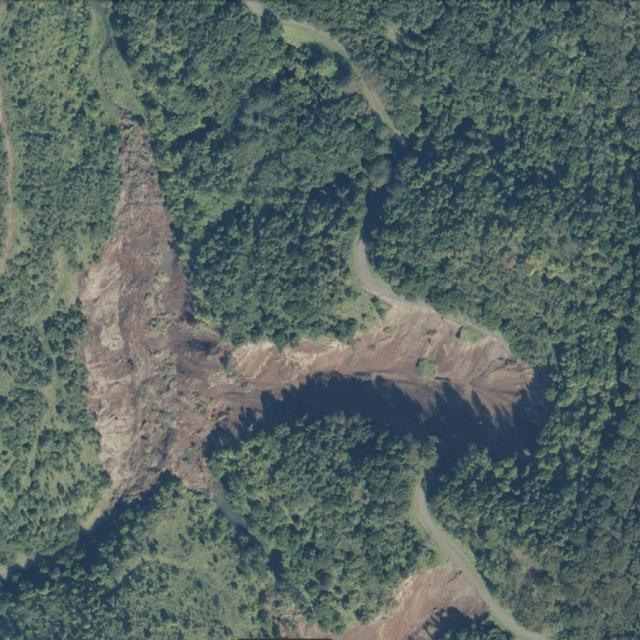landslide: (79, 110, 534, 514), (341, 565, 489, 640)
